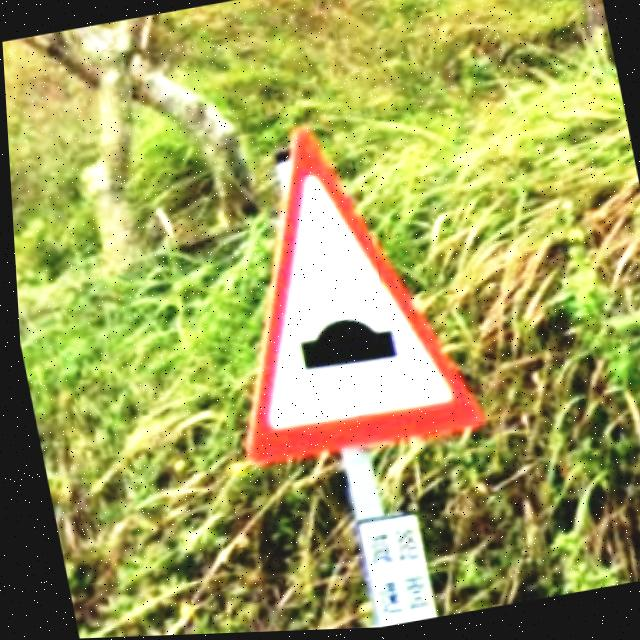hump: (243, 135, 478, 465)
